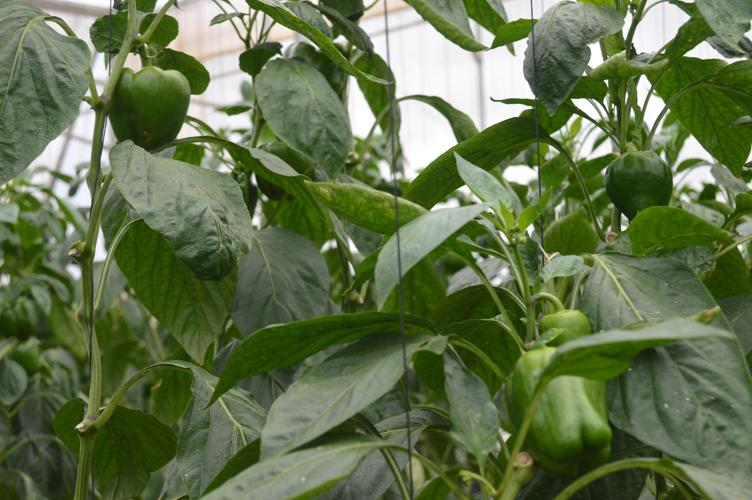BellPepper: (501, 345, 618, 479), (95, 55, 199, 152), (592, 142, 705, 225), (529, 300, 592, 348)
